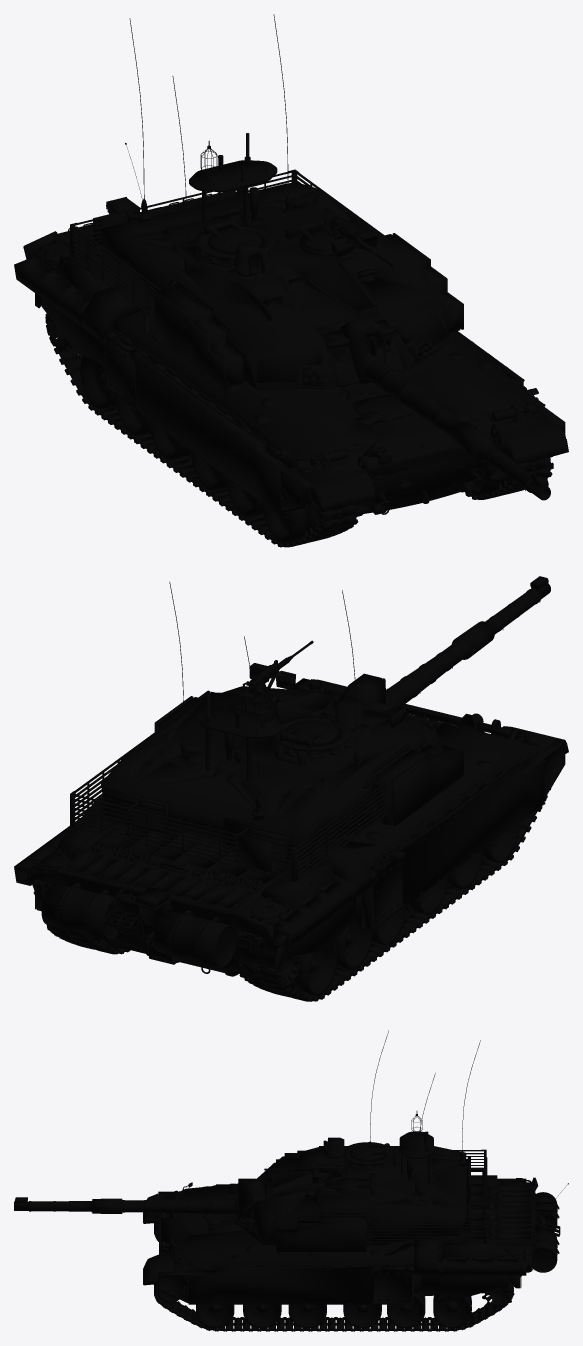
The picture shows the model from 3 angles, top to bottom: view 1: azimuth 30°, elevation 25°; view 2: azimuth 150°, elevation 25°; view 3: azimuth 270°, elevation 25°; orthographic projection. The views are drawn at different scales.
Visible parts, largest first — view 1: desirefx.me_012, desirefx.me_002, desirefx.me_009, desirefx.me_006, desirefx.me_016, desirefx.me_013, desirefx.me_015, desirefx.me_003, desirefx.me_005, desirefx.me_010; view 2: desirefx.me_012, desirefx.me_016, desirefx.me_009, desirefx.me_002, desirefx.me_006, desirefx.me_015, desirefx.me_013, desirefx.me_005, desirefx.me_003, desirefx.me_011, desirefx.me_010, desirefx.me_004; view 3: desirefx.me_012, desirefx.me_002, desirefx.me_006, desirefx.me_016, desirefx.me_009, desirefx.me_015, desirefx.me_013, desirefx.me_003, desirefx.me_005, desirefx.me_010, desirefx.me_011.
Part boxes in pixels (x1=…): desirefx.me_012: x1=101, y1=14, x2=450, y2=389; desirefx.me_002: x1=27, y1=191, x2=566, y2=514; desirefx.me_009: x1=70, y1=133, x2=463, y2=387; desirefx.me_006: x1=103, y1=328, x2=565, y2=513; desirefx.me_016: x1=23, y1=143, x2=568, y2=516; desirefx.me_013: x1=320, y1=317, x2=550, y2=500; desirefx.me_015: x1=45, y1=315, x2=532, y2=542; desirefx.me_003: x1=70, y1=369, x2=553, y2=547; desirefx.me_005: x1=14, y1=257, x2=145, y2=340; desirefx.me_010: x1=324, y1=216, x2=394, y2=268; desirefx.me_012: x1=101, y1=581, x2=442, y2=860; desirefx.me_016: x1=33, y1=680, x2=568, y2=973; desirefx.me_009: x1=70, y1=687, x2=463, y2=881; desirefx.me_002: x1=27, y1=679, x2=566, y2=976; desirefx.me_006: x1=295, y1=678, x2=565, y2=930; desirefx.me_015: x1=47, y1=823, x2=519, y2=995; desirefx.me_013: x1=323, y1=576, x2=550, y2=711; desirefx.me_005: x1=14, y1=796, x2=372, y2=948; desirefx.me_003: x1=46, y1=788, x2=551, y2=1001; desirefx.me_011: x1=102, y1=750, x2=406, y2=863; desirefx.me_010: x1=242, y1=640, x2=313, y2=706; desirefx.me_004: x1=239, y1=951, x2=300, y2=997; desirefx.me_012: x1=236, y1=1030, x2=480, y2=1245; desirefx.me_002: x1=146, y1=1180, x2=535, y2=1296; desirefx.me_006: x1=158, y1=1184, x2=414, y2=1304; desirefx.me_016: x1=143, y1=1175, x2=568, y2=1297; desirefx.me_009: x1=250, y1=1111, x2=487, y2=1251; desirefx.me_015: x1=157, y1=1225, x2=514, y2=1328; desirefx.me_013: x1=14, y1=1178, x2=264, y2=1218; desirefx.me_003: x1=154, y1=1221, x2=513, y2=1331; desirefx.me_005: x1=414, y1=1178, x2=526, y2=1275; desirefx.me_010: x1=264, y1=1163, x2=347, y2=1187; desirefx.me_011: x1=323, y1=1156, x2=470, y2=1243.
Bounding box in the file's own units: 0.4207 × 0.5336 × 1.12.
Materials: 5 (5 with a texture image).
